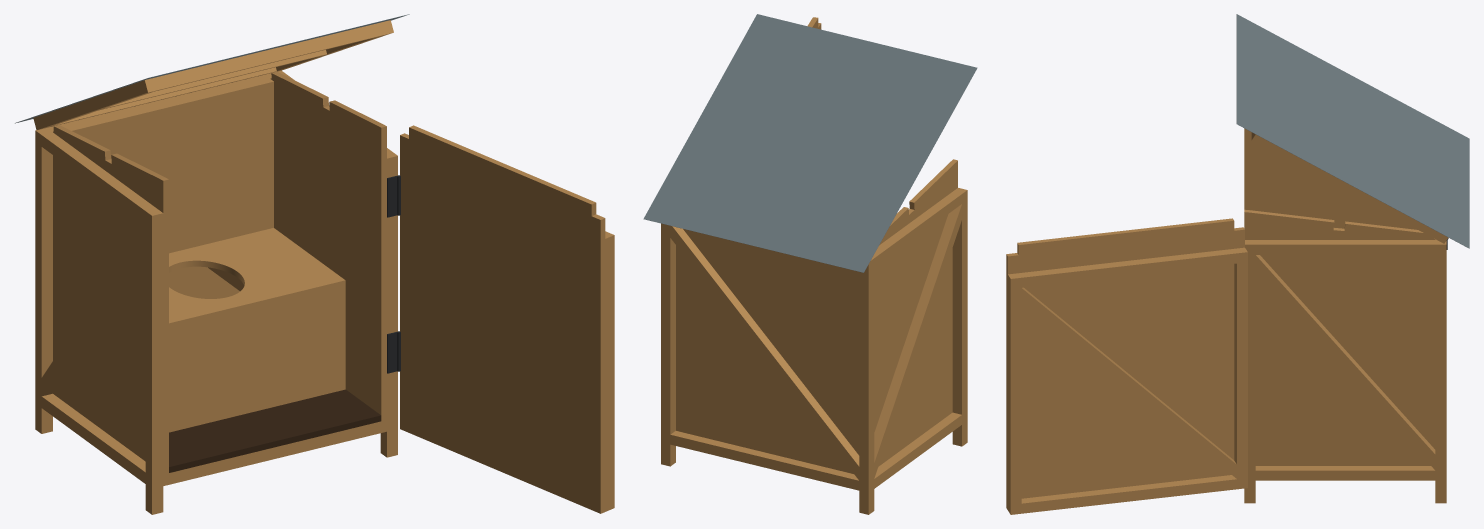
Rendered from dass-open.glb.
The picture shows the model from 3 angles, left to right: view 1: azimuth 30°, elevation 25°; view 2: azimuth 150°, elevation 25°; view 3: azimuth 270°, elevation 25°; orthographic projection. The views are drawn at different scales.
Parts seen in each view (by area): view 1: door_panel, right_wall, left_wall, back_wall, seat_front, seat_top, floor, front_post_left, back_post_left, roof_front, left_brace, door_left (+9 smaller); view 2: roof, back_wall, left_wall, back_brace, left_brace, back_post_left, front_post_left, back_post_right, back_bottom, left_top, left_bottom, right_wall; view 3: door_panel, right_wall, roof, left_wall, right_brace, door_brace, door_top, door_bottom, door_left, door_right, back_post_right, right_top (+3 smaller).
Part boxes in pixels (bbox=[...]): door_panel: bbox=[400, 125, 605, 513]; right_wall: bbox=[270, 71, 386, 421]; left_wall: bbox=[53, 125, 168, 474]; back_wall: bbox=[67, 79, 273, 298]; seat_front: bbox=[169, 286, 345, 432]; seat_top: bbox=[169, 228, 345, 329]; floor: bbox=[169, 389, 381, 472]; front_post_left: bbox=[145, 208, 163, 514]; back_post_left: bbox=[35, 128, 52, 433]; roof_front: bbox=[139, 20, 393, 94]; left_brace: bbox=[41, 223, 145, 396]; door_left: bbox=[605, 231, 614, 511]; roof: bbox=[643, 14, 977, 272]; back_wall: bbox=[680, 229, 859, 473]; left_wall: bbox=[874, 159, 957, 466]; back_brace: bbox=[670, 226, 859, 480]; left_brace: bbox=[874, 204, 961, 477]; back_post_left: bbox=[859, 258, 874, 514]; front_post_left: bbox=[952, 188, 967, 446]; back_post_right: bbox=[661, 223, 675, 466]; back_bottom: bbox=[670, 431, 859, 490]; left_top: bbox=[872, 192, 961, 267]; left_bottom: bbox=[874, 412, 961, 488]; right_wall: bbox=[676, 245, 680, 431]; door_panel: bbox=[1006, 218, 1244, 509]; right_wall: bbox=[1244, 209, 1435, 465]; roof: bbox=[1236, 14, 1469, 248]; left_wall: bbox=[1244, 128, 1417, 229]; right_brace: bbox=[1255, 255, 1435, 469]; door_brace: bbox=[1021, 287, 1236, 478]; door_top: bbox=[1019, 249, 1236, 287]; door_bottom: bbox=[1021, 475, 1236, 513]; door_left: bbox=[1008, 273, 1021, 514]; door_right: bbox=[1234, 247, 1247, 489]; back_post_right: bbox=[1435, 240, 1446, 503]; right_top: bbox=[1255, 240, 1435, 254].
Bounding box in the file's own units: 1347 × 1701 × 1868.
